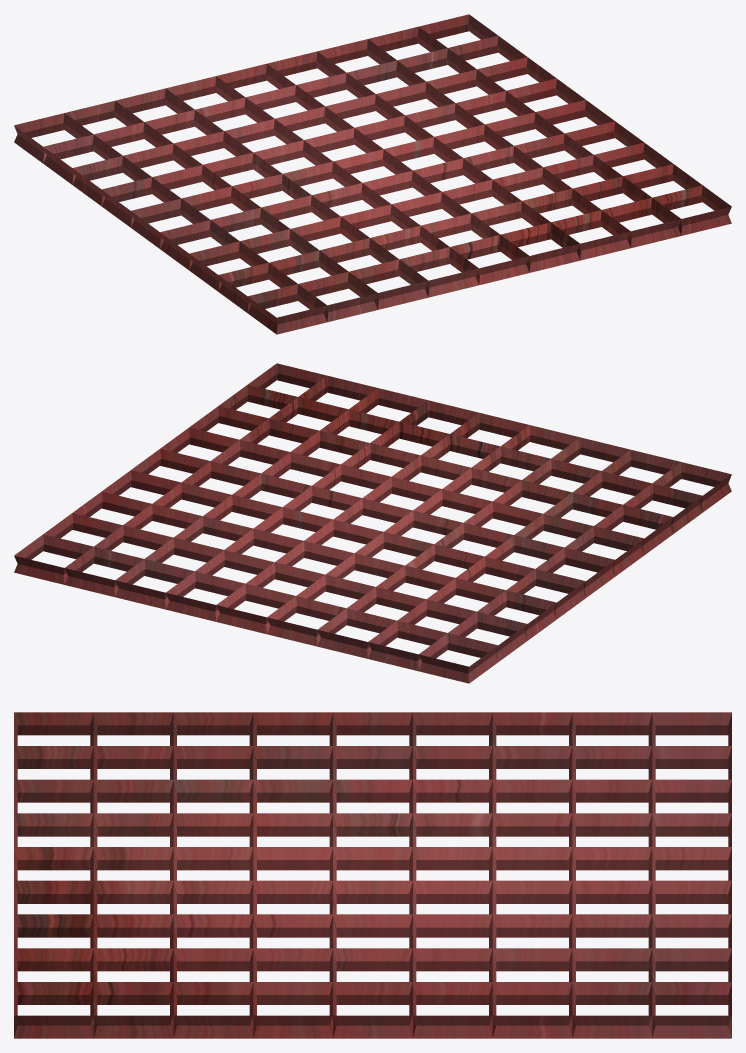
3 renders of one model, top to bottom at view 1: azimuth 30°, elevation 25°; view 2: azimuth 150°, elevation 25°; view 3: azimuth 270°, elevation 25°, orthographic. The views are drawn at different scales.
Parts seen in each view (by area): view 1: Grid; view 2: Grid; view 3: Grid.
Part boxes in pixels (x1,y1,x2,y2): Grid: (14,14,731,334); Grid: (14,363,731,683); Grid: (14,712,731,1038).
Bounding box in the file's own units: 2 × 0.0712 × 2.
Materials: 1 (1 with a texture image).
